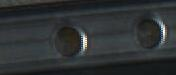joints: (49, 20, 88, 61), (130, 10, 168, 50)
